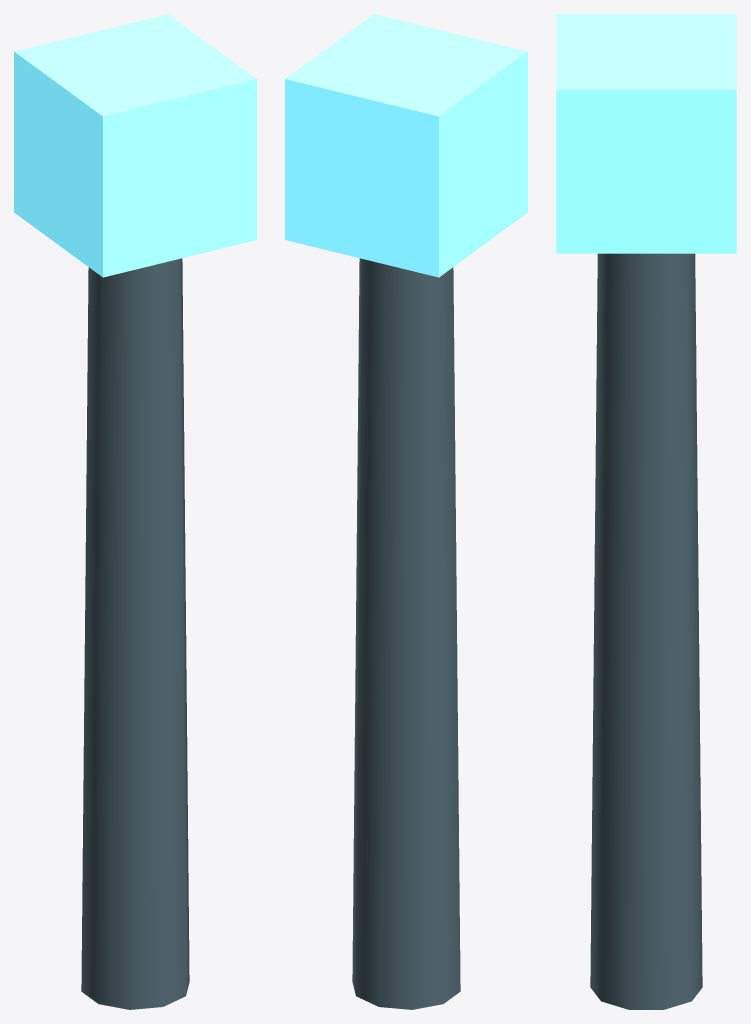
The model's file is street-lantern.gltf.
The picture shows the model from 3 angles, left to right: view 1: azimuth 30°, elevation 25°; view 2: azimuth 150°, elevation 25°; view 3: azimuth 270°, elevation 25°; orthographic projection.
Size of the model in its own units: 0.45 by 2.58 by 0.45.
